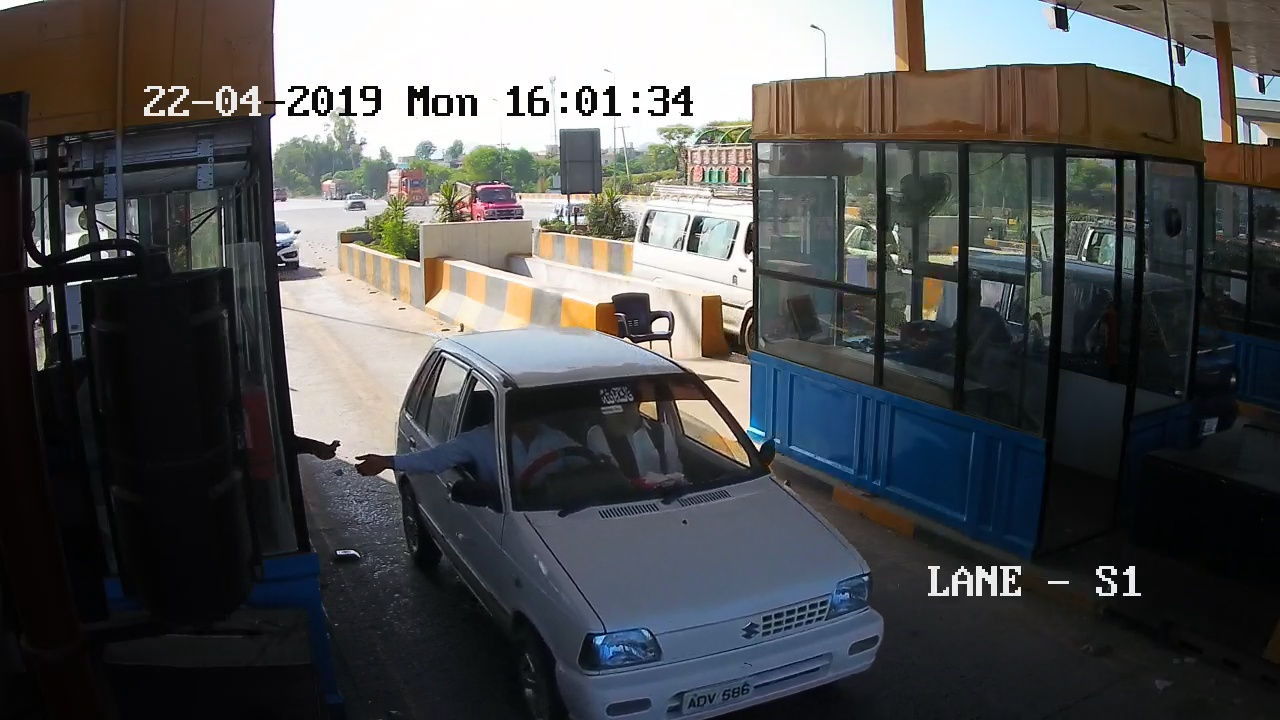Number Plate (Car): (678, 680, 759, 711)
